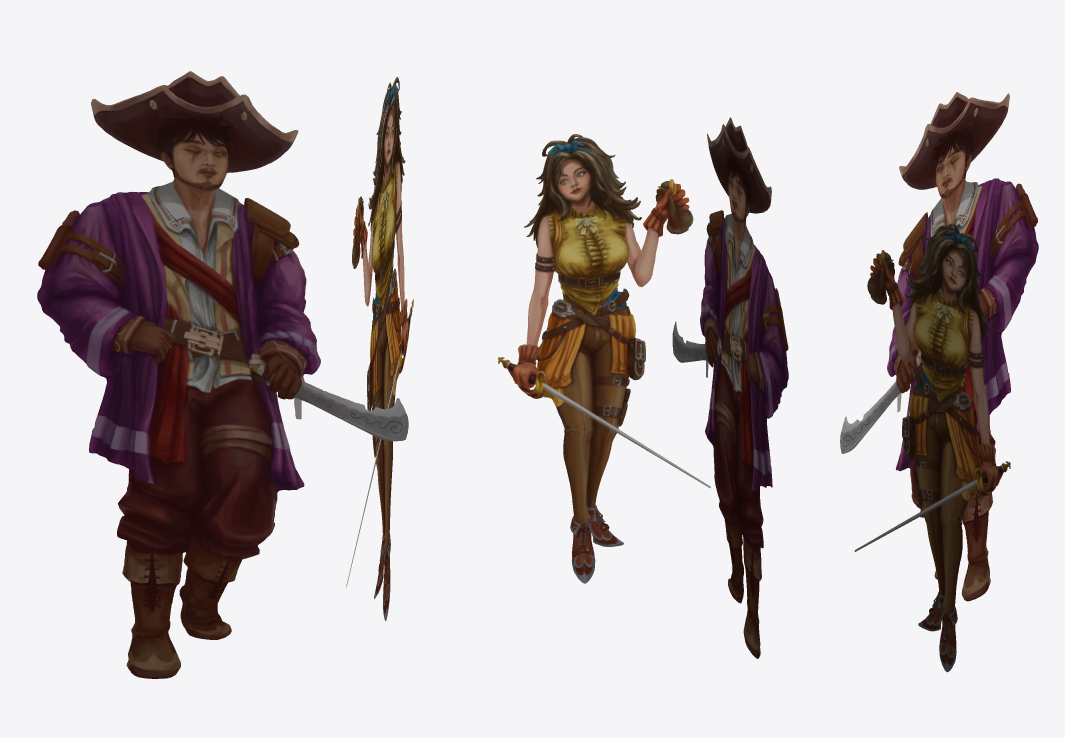
Rendered from human 1.fbx.
The picture shows the model from 3 angles, left to right: view 1: azimuth 30°, elevation 25°; view 2: azimuth 150°, elevation 25°; view 3: azimuth 270°, elevation 25°; orthographic projection. The views are drawn at different scales.
Visible parts, largest first — view 1: Plane085, Plane084; view 2: Plane084, Plane085; view 3: Plane084, Plane085.
Part boxes in pixels (box(x1,y1,x2,y2)): Plane085: box(37, 71, 408, 678); Plane084: box(346, 77, 413, 620); Plane084: box(498, 134, 710, 583); Plane085: box(672, 117, 788, 658); Plane084: box(854, 223, 1010, 672); Plane085: box(840, 92, 1038, 601).
Bounding box in the file's own units: 13.77 × 22.11 × 8.
2 materials, 2 textured.
